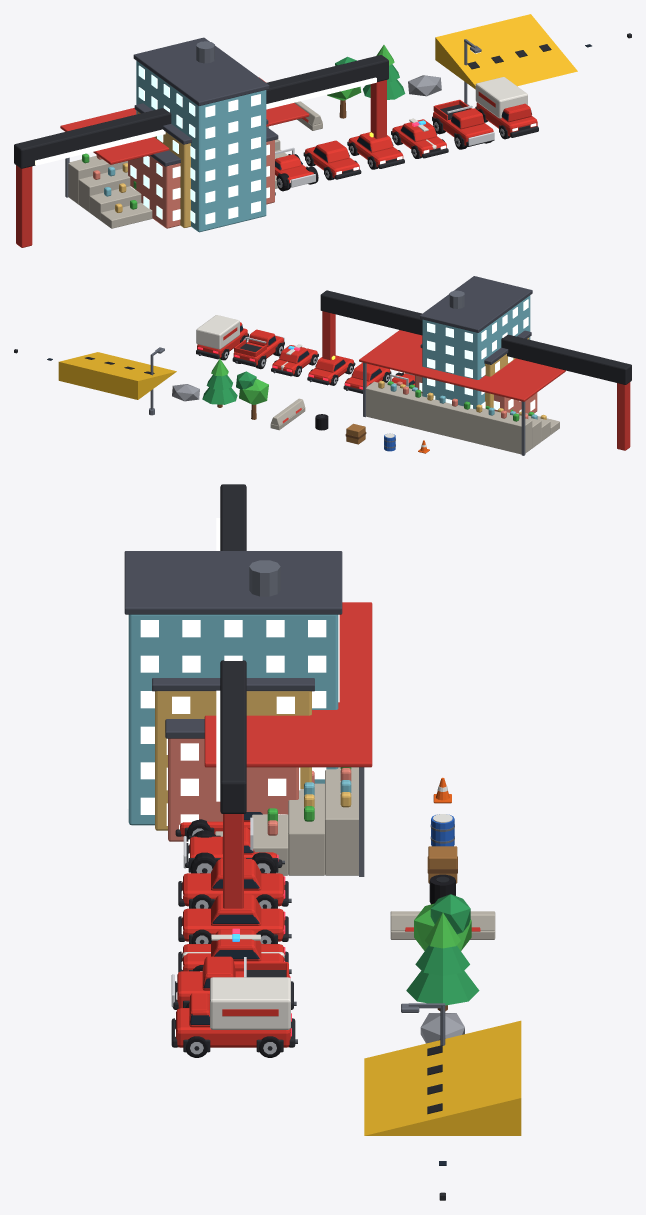
Rendered from minicars.glb.
The picture shows the model from 3 angles, top to bottom: view 1: azimuth 30°, elevation 25°; view 2: azimuth 150°, elevation 25°; view 3: azimuth 270°, elevation 25°; orthographic projection. The views are drawn at different scales.
Parts seen in each view (by area): view 1: prop_bldgB, prop_gate, prop_stand, prop_ramp, prop_bldgC, van_body, picape_body, prop_bldgA, policia_body, sedan_body, taxi_body, vespa_body (+4 smaller); view 2: prop_stand, prop_bldgB, prop_gate, prop_ramp, van_body, picape_body, prop_pine, policia_body, prop_tree, taxi_body, sedan_body, prop_bldgA (+4 smaller); view 3: prop_bldgB, prop_stand, prop_ramp, prop_gate, van_body, prop_bldgC, prop_bldgA, prop_pine, taxi_body, policia_body, sedan_body, picape_body (+3 smaller).
Boxes of the visible parts, bbox=[...] form: prop_bldgB: bbox=[133, 37, 269, 232]; prop_gate: bbox=[14, 55, 388, 247]; prop_stand: bbox=[60, 77, 309, 228]; prop_ramp: bbox=[435, 14, 577, 89]; prop_bldgC: bbox=[128, 127, 278, 228]; van_body: bbox=[475, 77, 538, 137]; picape_body: bbox=[432, 99, 494, 147]; prop_bldgA: bbox=[134, 103, 268, 227]; policia_body: bbox=[391, 118, 448, 158]; sedan_body: bbox=[303, 140, 361, 179]; taxi_body: bbox=[347, 132, 404, 168]; vespa_body: bbox=[275, 147, 316, 188]; prop_stand: bbox=[359, 330, 565, 455]; prop_bldgB: bbox=[420, 276, 532, 409]; prop_gate: bbox=[320, 290, 631, 450]; prop_ramp: bbox=[58, 352, 176, 399]; van_body: bbox=[196, 315, 248, 359]; picape_body: bbox=[232, 329, 284, 367]; prop_pine: bbox=[202, 359, 237, 407]; policia_body: bbox=[271, 344, 318, 376]; prop_tree: bbox=[236, 371, 268, 419]; taxi_body: bbox=[307, 355, 355, 385]; sedan_body: bbox=[343, 362, 391, 393]; prop_bldgA: bbox=[420, 330, 531, 407]; prop_bldgB: bbox=[124, 551, 342, 825]; prop_stand: bbox=[204, 602, 372, 876]; prop_ramp: bbox=[364, 1020, 521, 1135]; prop_gate: bbox=[216, 484, 246, 908]; van_body: bbox=[171, 977, 297, 1052]; prop_bldgC: bbox=[165, 719, 300, 841]; prop_bldgA: bbox=[152, 678, 314, 830]; prop_pine: bbox=[406, 912, 479, 1011]; taxi_body: bbox=[178, 894, 291, 943]; policia_body: bbox=[178, 928, 291, 973]; sedan_body: bbox=[178, 859, 291, 908]; picape_body: bbox=[171, 956, 296, 1009].
Bounding box in the file's own units: 49.62 × 12.75 × 15.16.
